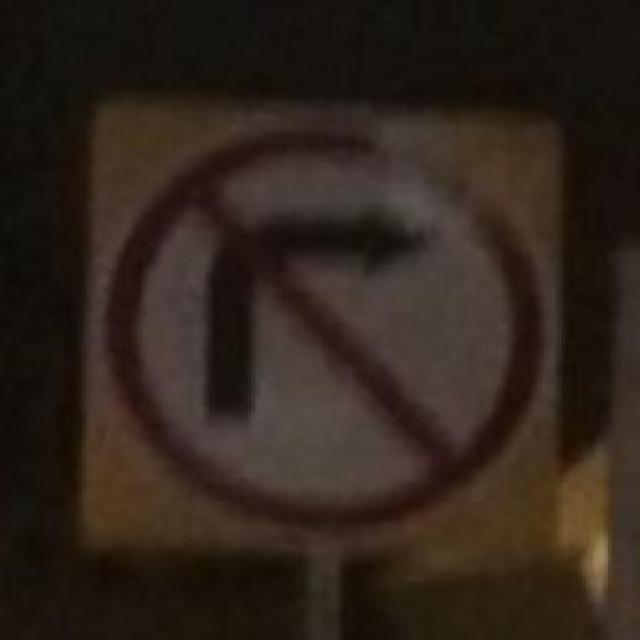right turn prohibited: (107, 108, 558, 557)
